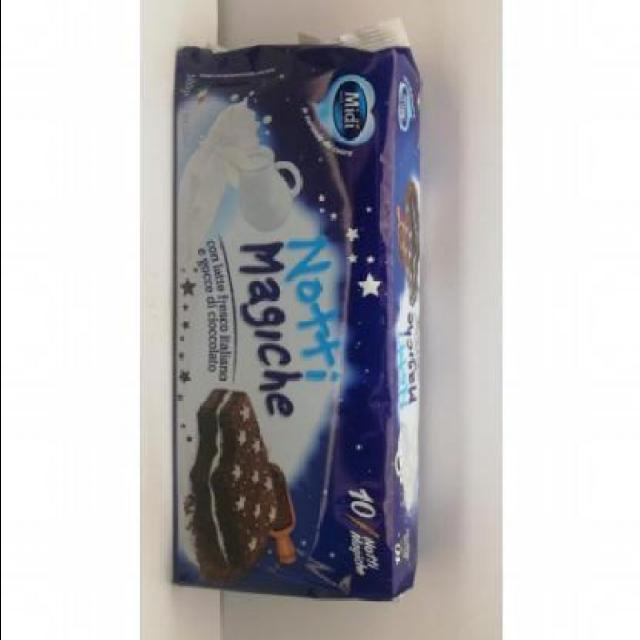Merendine: (168, 34, 422, 604)
